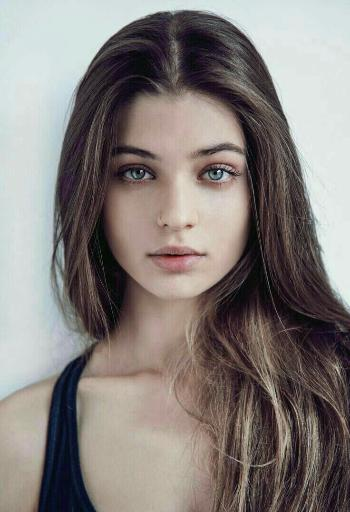left_eye: (198, 166, 238, 190)
left_lip_corner: (199, 247, 212, 264)
right_eye: (116, 164, 158, 188)
right_lip_corner: (144, 250, 156, 267)
